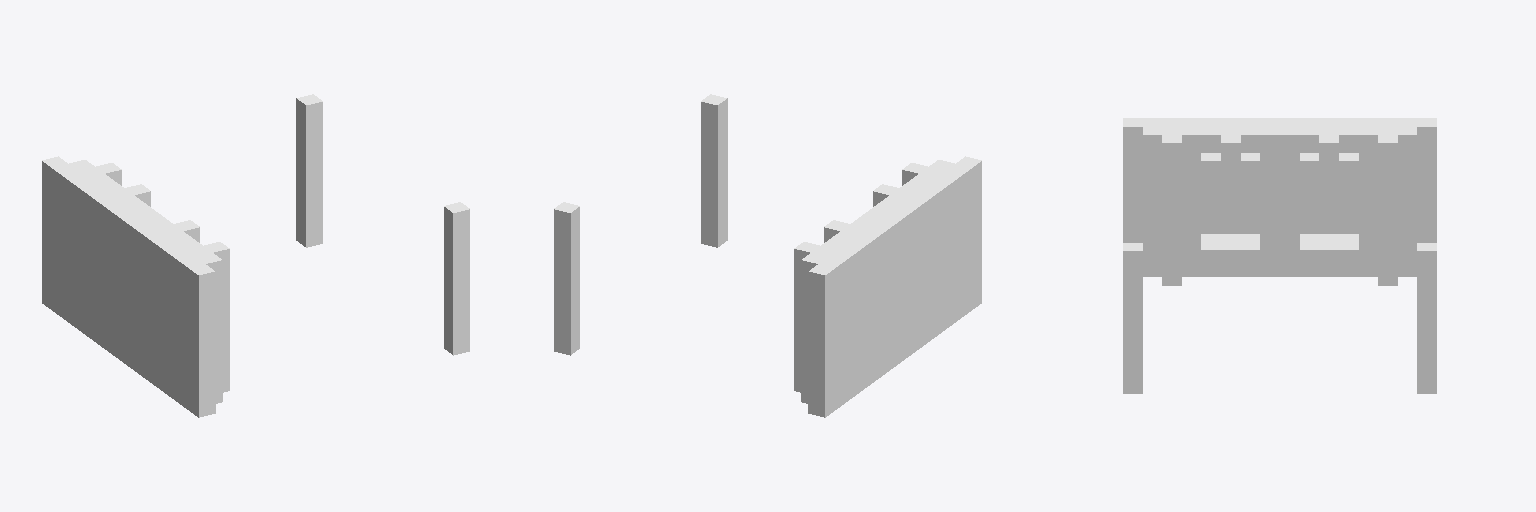
File: towar-27.obj
The picture shows the model from 3 angles: view 1: azimuth 30°, elevation 25°; view 2: azimuth 150°, elevation 25°; view 3: azimuth 270°, elevation 25°; orthographic projection.
Parts seen in each view (by area): view 1: towar-27; view 2: towar-27; view 3: towar-27.
Boxes of the visible parts, x1,y1,x2,y2 form: towar-27: [42, 94, 469, 417]; towar-27: [554, 94, 981, 417]; towar-27: [1123, 118, 1436, 393].
Size of the model in its own units: 16 by 8 by 16.